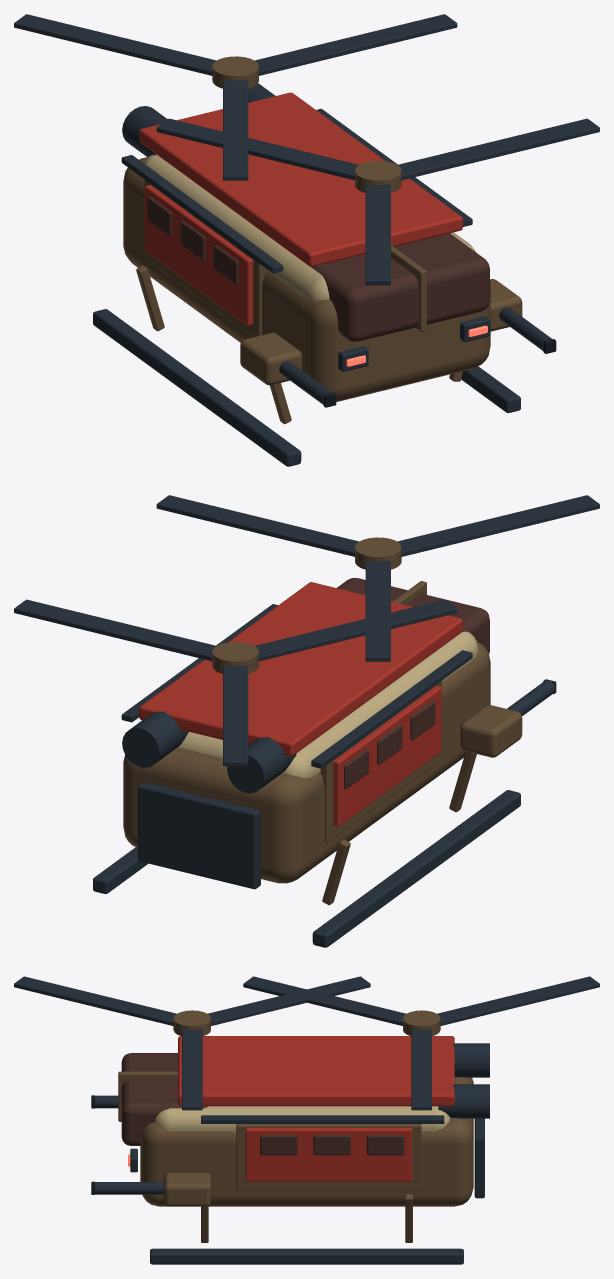
File: scout-1.glb
3 views of the same model, one above another, from view 1: azimuth 30°, elevation 25°; view 2: azimuth 150°, elevation 25°; view 3: azimuth 270°, elevation 25° (orthographic). The views are drawn at different scales.
Visible parts, largest first — view 1: CargoRoof_4, TransportHull_0, ArmouredCockpit_2, SlidingCargoDoor_6, LandingSkid_11, CargoCabin_1, TransportRotorBlade_38, TransportRotorBlade_41, TransportRotorBlade_36, TransportRotorBlade_43, TransportRotorBlade_42, TransportRotorBlade_37 (+16 smaller); view 2: CargoRoof_4, TransportHull_0, RearCargoRamp_33, SlidingCargoDoor_6, LandingSkid_11, CargoCabin_1, TransportRotorBlade_42, TransportRotorBlade_36, TransportRotorBlade_41, TransportRotorBlade_37, TransportRotorBlade_38, MGMount_14 (+16 smaller); view 3: CargoRoof_4, TransportHull_0, SlidingCargoDoor_20, LandingSkid_25, ArmouredCockpit_2, CargoCabin_1, CargoDoorFrame_19, DoorRail_24, TransportRotorBlade_38, TransportRotorBlade_42, TransportRotorBlade_37, TransportRotorBlade_43 (+14 smaller).
Part boxes in pixels (x1=…): CargoRoof_4: x1=139, y1=92, x2=462, y2=266; TransportHull_0: x1=123, y1=157, x2=490, y2=401; ArmouredCockpit_2: x1=311, y1=233, x2=489, y2=341; SlidingCargoDoor_6: x1=144, y1=185, x2=253, y2=325; LandingSkid_11: x1=93, y1=309, x2=301, y2=466; CargoCabin_1: x1=143, y1=154, x2=476, y2=301; TransportRotorBlade_38: x1=14, y1=14, x2=216, y2=75; TransportRotorBlade_41: x1=397, y1=118, x2=599, y2=180; TransportRotorBlade_36: x1=255, y1=14, x2=457, y2=75; TransportRotorBlade_43: x1=156, y1=118, x2=358, y2=180; TransportRotorBlade_42: x1=365, y1=183, x2=390, y2=285; TransportRotorBlade_37: x1=223, y1=79, x2=248, y2=180; CargoRoof_4: x1=139, y1=582, x2=462, y2=756; TransportHull_0: x1=123, y1=642, x2=490, y2=883; RearCargoRamp_33: x1=138, y1=782, x2=260, y2=889; SlidingCargoDoor_6: x1=333, y1=686, x2=441, y2=826; LandingSkid_11: x1=312, y1=790, x2=520, y2=947; CargoCabin_1: x1=178, y1=631, x2=478, y2=778; TransportRotorBlade_42: x1=397, y1=495, x2=599, y2=556; TransportRotorBlade_36: x1=14, y1=599, x2=216, y2=661; TransportRotorBlade_41: x1=156, y1=495, x2=358, y2=556; TransportRotorBlade_37: x1=255, y1=599, x2=457, y2=661; TransportRotorBlade_38: x1=223, y1=664, x2=248, y2=766; MGMount_14: x1=460, y1=705, x2=522, y2=757; CargoRoof_4: x1=178, y1=1036, x2=454, y2=1106; TransportHull_0: x1=140, y1=1077, x2=473, y2=1206; SlidingCargoDoor_20: x1=245, y1=1127, x2=412, y2=1181; LandingSkid_25: x1=150, y1=1248, x2=463, y2=1264; ArmouredCockpit_2: x1=121, y1=1053, x2=207, y2=1145; CargoCabin_1: x1=155, y1=1106, x2=450, y2=1131; CargoDoorFrame_19: x1=236, y1=1124, x2=421, y2=1190; DoorRail_24: x1=201, y1=1115, x2=444, y2=1123; TransportRotorBlade_38: x1=437, y1=976, x2=599, y2=1025; TransportRotorBlade_42: x1=14, y1=976, x2=176, y2=1025; TransportRotorBlade_37: x1=243, y1=976, x2=405, y2=1025; TransportRotorBlade_43: x1=208, y1=976, x2=370, y2=1025.
Bounding box in the file's own units: 2.04 × 1.41 × 3.73.
